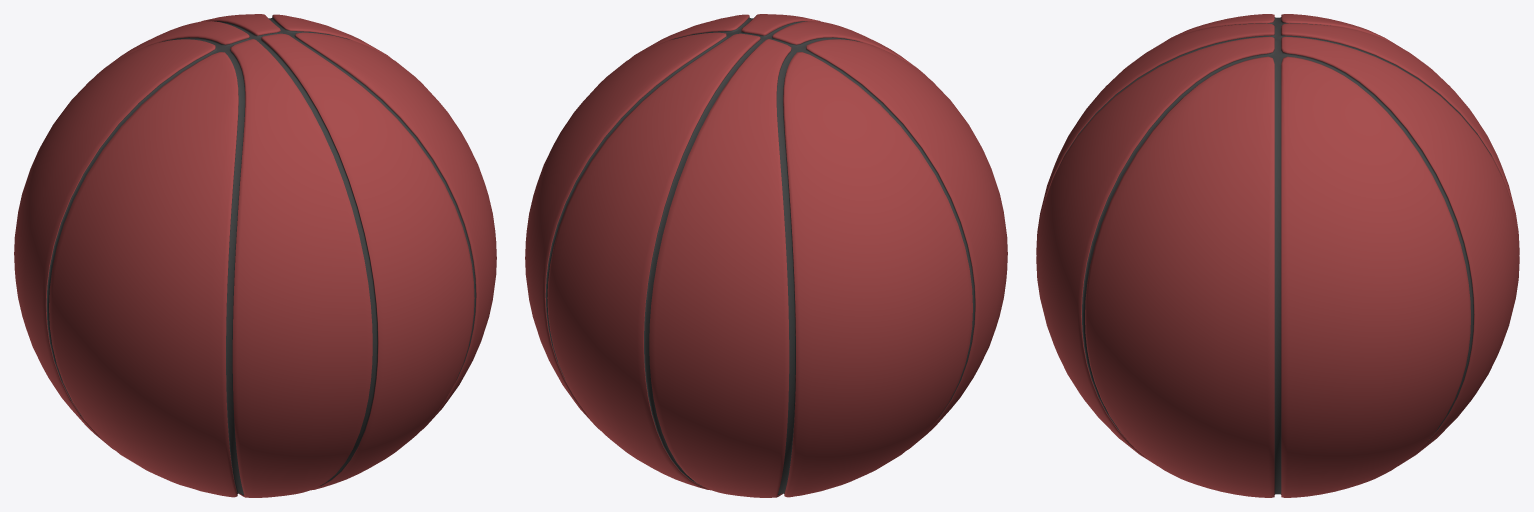
Rendered from basketball.fbx.
3 renders of one model, left to right at view 1: azimuth 30°, elevation 25°; view 2: azimuth 150°, elevation 25°; view 3: azimuth 270°, elevation 25°, orthographic.
Visible parts, largest first — view 1: pCube3; view 2: pCube3; view 3: pCube3.
Boxes of the visible parts, left/top/right/bottom form: pCube3: left=14, top=14, right=496, bottom=497; pCube3: left=525, top=14, right=1007, bottom=497; pCube3: left=1036, top=14, right=1519, bottom=497.
Bounding box in the file's own units: 2.18 × 2.2 × 2.18.
